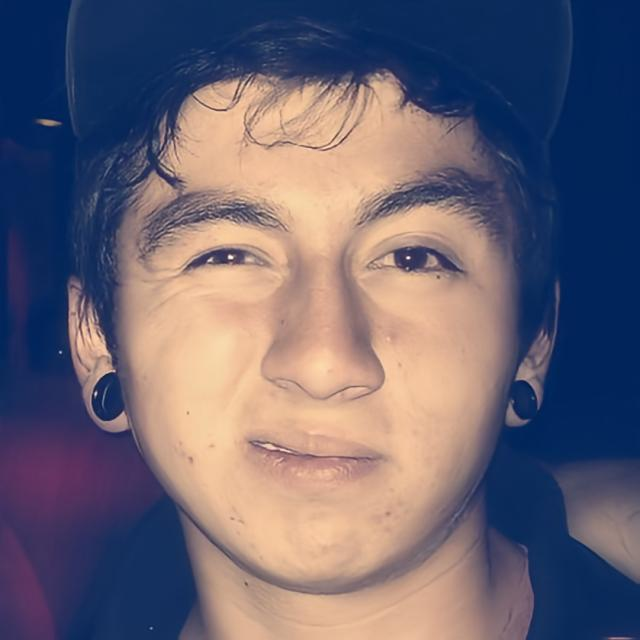content: (120, 60, 522, 590)
